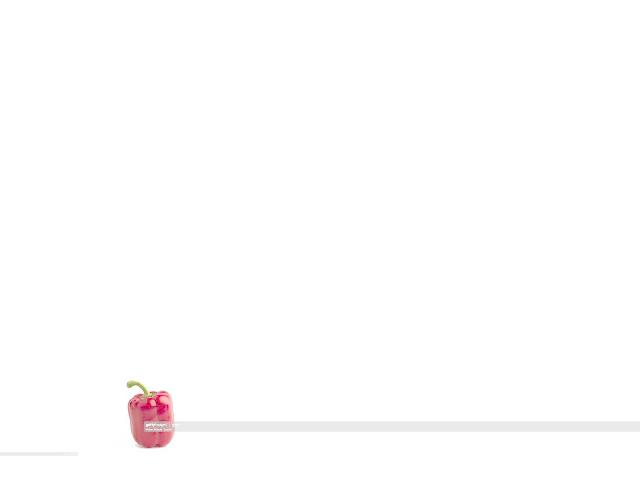bell_pepper: (120, 377, 178, 446)
